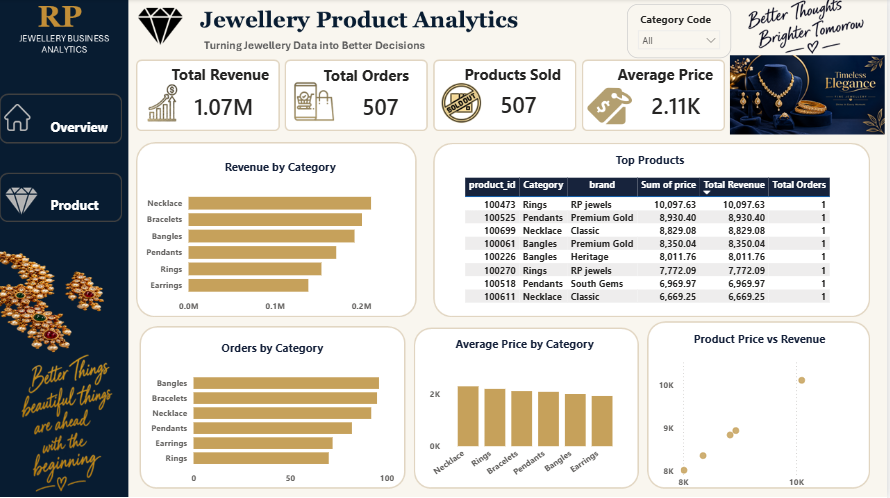

The dashboard page shown, as its layout file describes it:
{"tool":"powerbi","page":{"name":"Product Analytics","canvas":[1280,720],"ordinal":2},"visuals":[{"type":"cardVisual","fields":{"Data":["DateTable.Total Revenue"]},"box":[252,116.6,146.9,72],"z":0},{"type":"cardVisual","fields":{"Data":["DateTable.Total Orders"]},"box":[493.9,118.1,123.8,69.1],"z":1000},{"type":"cardVisual","fields":{"Data":["DateTable.Product_Sold"]},"box":[692.6,115.2,121,69.1],"z":2000},{"type":"cardVisual","fields":{"Data":["DateTable.Avg_Product_price"]},"box":[910.1,113.8,131,74.9],"z":3000},{"type":"clusteredBarChart","title":"Revenue by Category","fields":{"Category":["Jewellry Data.category_code"],"Y":["DateTable.Total Revenue"]},"box":[206.6,230.1,398.1,230.1],"z":4000},{"type":"clusteredBarChart","title":"Orders by Category","fields":{"Category":["Jewellry Data.category_code"],"Y":["DateTable.Total Orders"]},"box":[213.3,490.5,361.2,216.7],"z":5000},{"type":"clusteredColumnChart","title":"Average Price by Category","fields":{"Category":["Jewellry Data.category_code"],"Y":["DateTable.Avg_Product_price"]},"box":[609.8,485.5,295.6,216.7],"z":6000},{"type":"tableEx","title":"Top Products","fields":{"Values":["Jewellry Data.product_id","Jewellry Data.category_code","Jewellry Data.brand","Sum(Jewellry Data.price)","DateTable.Total Revenue","DateTable.Total Orders"]},"box":[665.2,220.1,544.3,240.2],"z":7000},{"type":"scatterChart","title":"Product Price vs Revenue","fields":{"X":["DateTable.Avg_Product_price"],"Y":["DateTable.Total Revenue"],"Series":["Jewellry Data.product_id"]},"box":[944,478.7,300.7,235.2],"z":8000},{"type":"textbox","box":[243.4,89.3,157,46.1],"z":9000},{"type":"textbox","box":[462.2,90.7,144,46.1],"z":10000},{"type":"textbox","box":[665.3,89.3,162.7,46.1],"z":11000},{"type":"textbox","box":[885.6,89.3,177.1,46.1],"z":12000},{"type":"textbox","box":[69.1,279.4,92.2,34.6],"z":13000},{"type":"textbox","box":[69.1,167,99.4,36],"z":14000},{"type":"slicer","fields":{"Values":["Jewellry Data.category_code"]},"box":[904.3,7.2,149.8,77.8],"z":15000},{"type":"actionButton","box":[4.3,146.9,180,66.2],"z":16000}]}

Visuals, with their boxes in screenshot pixels (x1, y1, x2, y2), scaled from the page's 1280x720 canvas onto the 890x498 screenshot:
cardVisual - DateTable.Total Revenue: [175, 81, 277, 130]
cardVisual - DateTable.Total Orders: [343, 82, 429, 129]
cardVisual - DateTable.Product_Sold: [482, 80, 566, 127]
cardVisual - DateTable.Avg_Product_price: [633, 79, 724, 131]
"Revenue by Category" clusteredBarChart: [144, 159, 420, 318]
"Orders by Category" clusteredBarChart: [148, 339, 399, 489]
"Average Price by Category" clusteredColumnChart: [424, 336, 630, 486]
"Top Products" tableEx: [463, 152, 841, 318]
"Product Price vs Revenue" scatterChart: [656, 331, 865, 494]
textbox: [169, 62, 278, 94]
textbox: [321, 63, 421, 95]
textbox: [463, 62, 576, 94]
textbox: [616, 62, 739, 94]
textbox: [48, 193, 112, 217]
textbox: [48, 116, 117, 140]
slicer - Jewellry Data.category_code: [629, 5, 733, 59]
actionButton: [3, 102, 128, 147]
